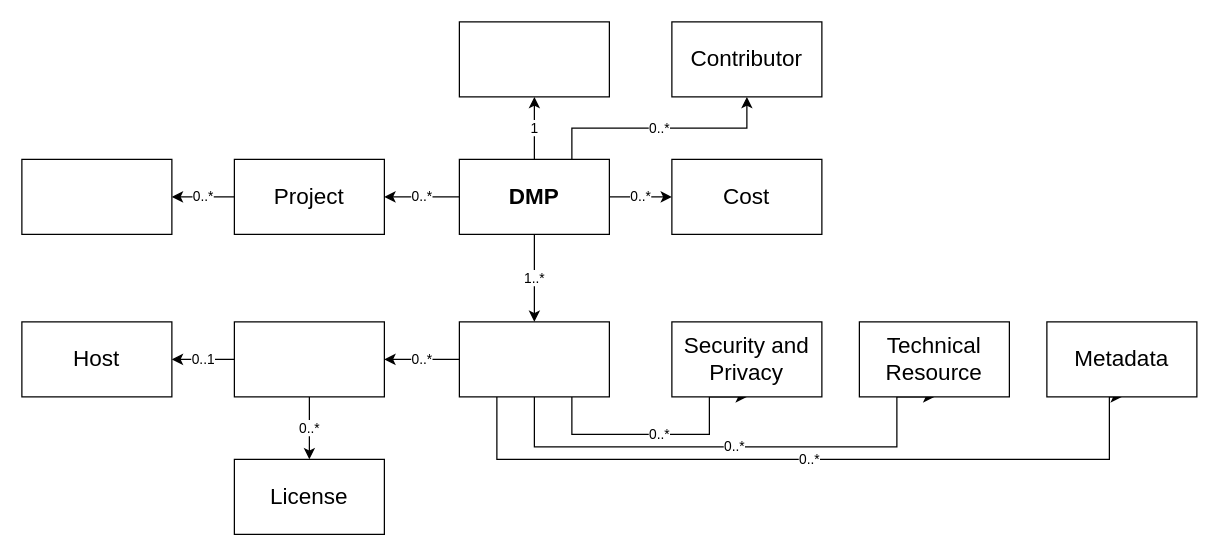
This 1219x556 diagram has some shape labels left out. The shapes that lost their labels are listed below. From the top down, each one's box as (x1, y1, x2, y2) in pixels, then its label:
(458, 21, 609, 97): Contact
(21, 158, 172, 234): Funding
(233, 321, 384, 397): Distribution
(458, 321, 609, 397): Dataset
